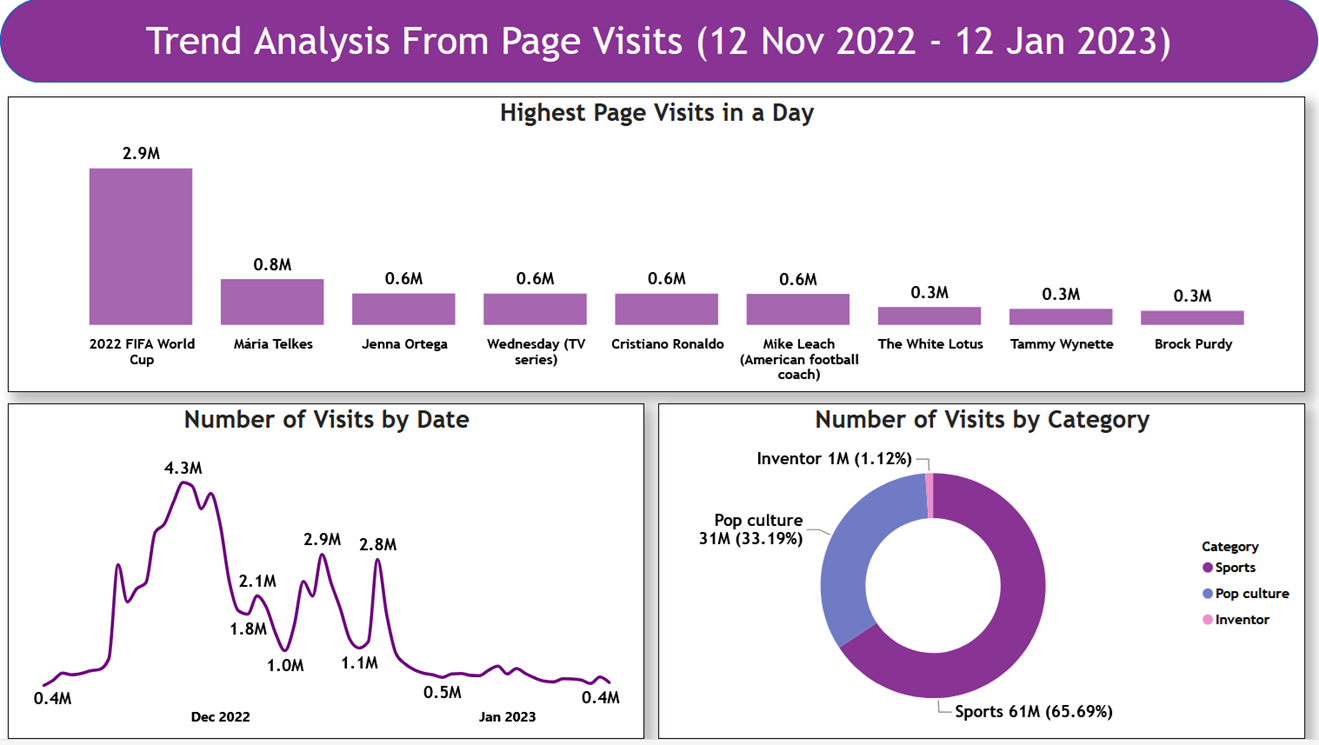

Layout of this report page (visuals, bound fields, positions):
{"tool":"powerbi","page":{"name":"Page 2","canvas":[1280,720],"ordinal":1},"visuals":[{"type":"columnChart","title":"Highest Page Visits in a Day","fields":{"Category":["Pageviews.Page_Title"],"Y":["Max(Pageviews.Number_of_Visits)"]},"box":[8.3,95.9,1259.3,286.7],"z":0},{"type":"donutChart","title":"Number of Visits by Category","fields":{"Category":["Pageviews.Category"],"Y":["Sum(Pageviews.Number_of_Visits)"]},"box":[639.5,394,628.1,325.9],"z":1000},{"type":"shape","box":[0,0,1280,82.3],"z":2000},{"type":"lineChart","title":"Number of Visits by Date","fields":{"Y":["Sum(Pageviews.Number_of_Visits)"],"Category":["Pageviews.Date.Variation.Date Hierarchy.Year","Pageviews.Date.Variation.Date Hierarchy.Month","Pageviews.Date.Variation.Date Hierarchy.Day"]},"box":[8.3,394,617.8,325.9],"z":3000}]}

Visuals, with their boxes in screenshot pixels (x1, y1, x2, y2), scaled from the page's 1280x720 canvas onto the 1319x745 screenshot:
"Highest Page Visits in a Day" columnChart: (left=9, top=99, right=1306, bottom=396)
"Number of Visits by Category" donutChart: (left=659, top=408, right=1306, bottom=744)
shape: (left=0, top=0, right=1318, bottom=85)
"Number of Visits by Date" lineChart: (left=9, top=408, right=645, bottom=744)
